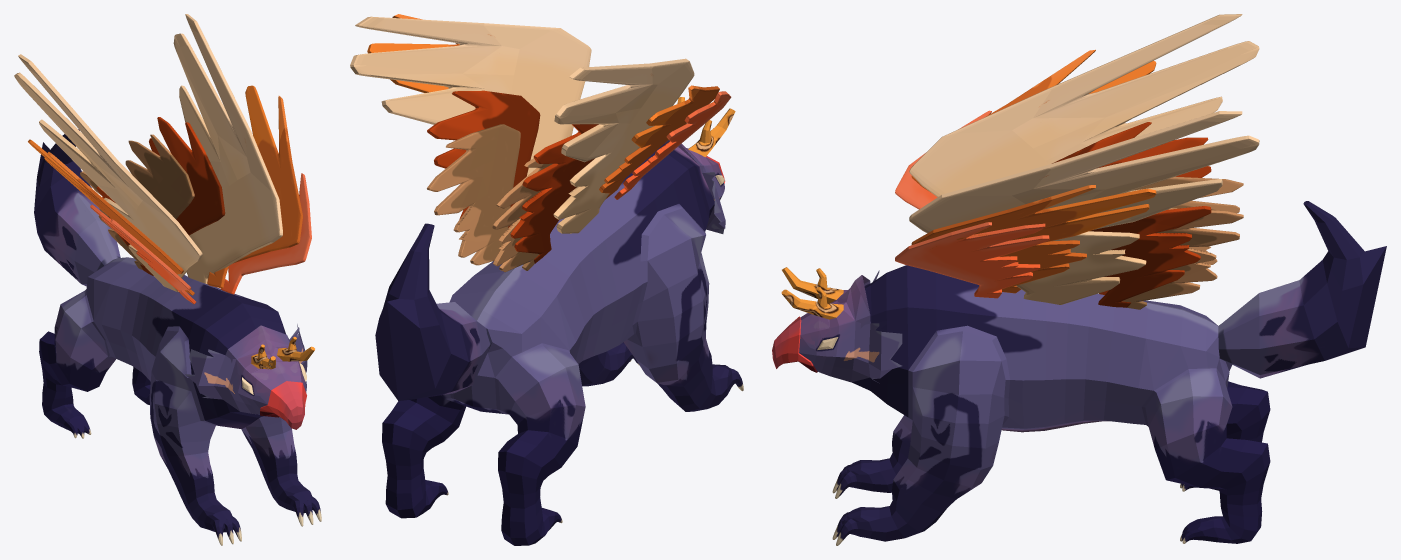
The model's file is BossZonaRoja.fbx.
The picture shows the model from 3 angles, left to right: view 1: azimuth 30°, elevation 25°; view 2: azimuth 150°, elevation 25°; view 3: azimuth 270°, elevation 25°; orthographic projection. The views are drawn at different scales.
Parts seen in each view (by area): view 1: BossROja; view 2: BossROja; view 3: BossROja.
Part boxes in pixels (x1,y1,x2,y2): BossROja: [14, 14, 321, 545]; BossROja: [350, 14, 743, 545]; BossROja: [772, 14, 1386, 545].
Size of the model in its own units: 220 by 339 by 417.
